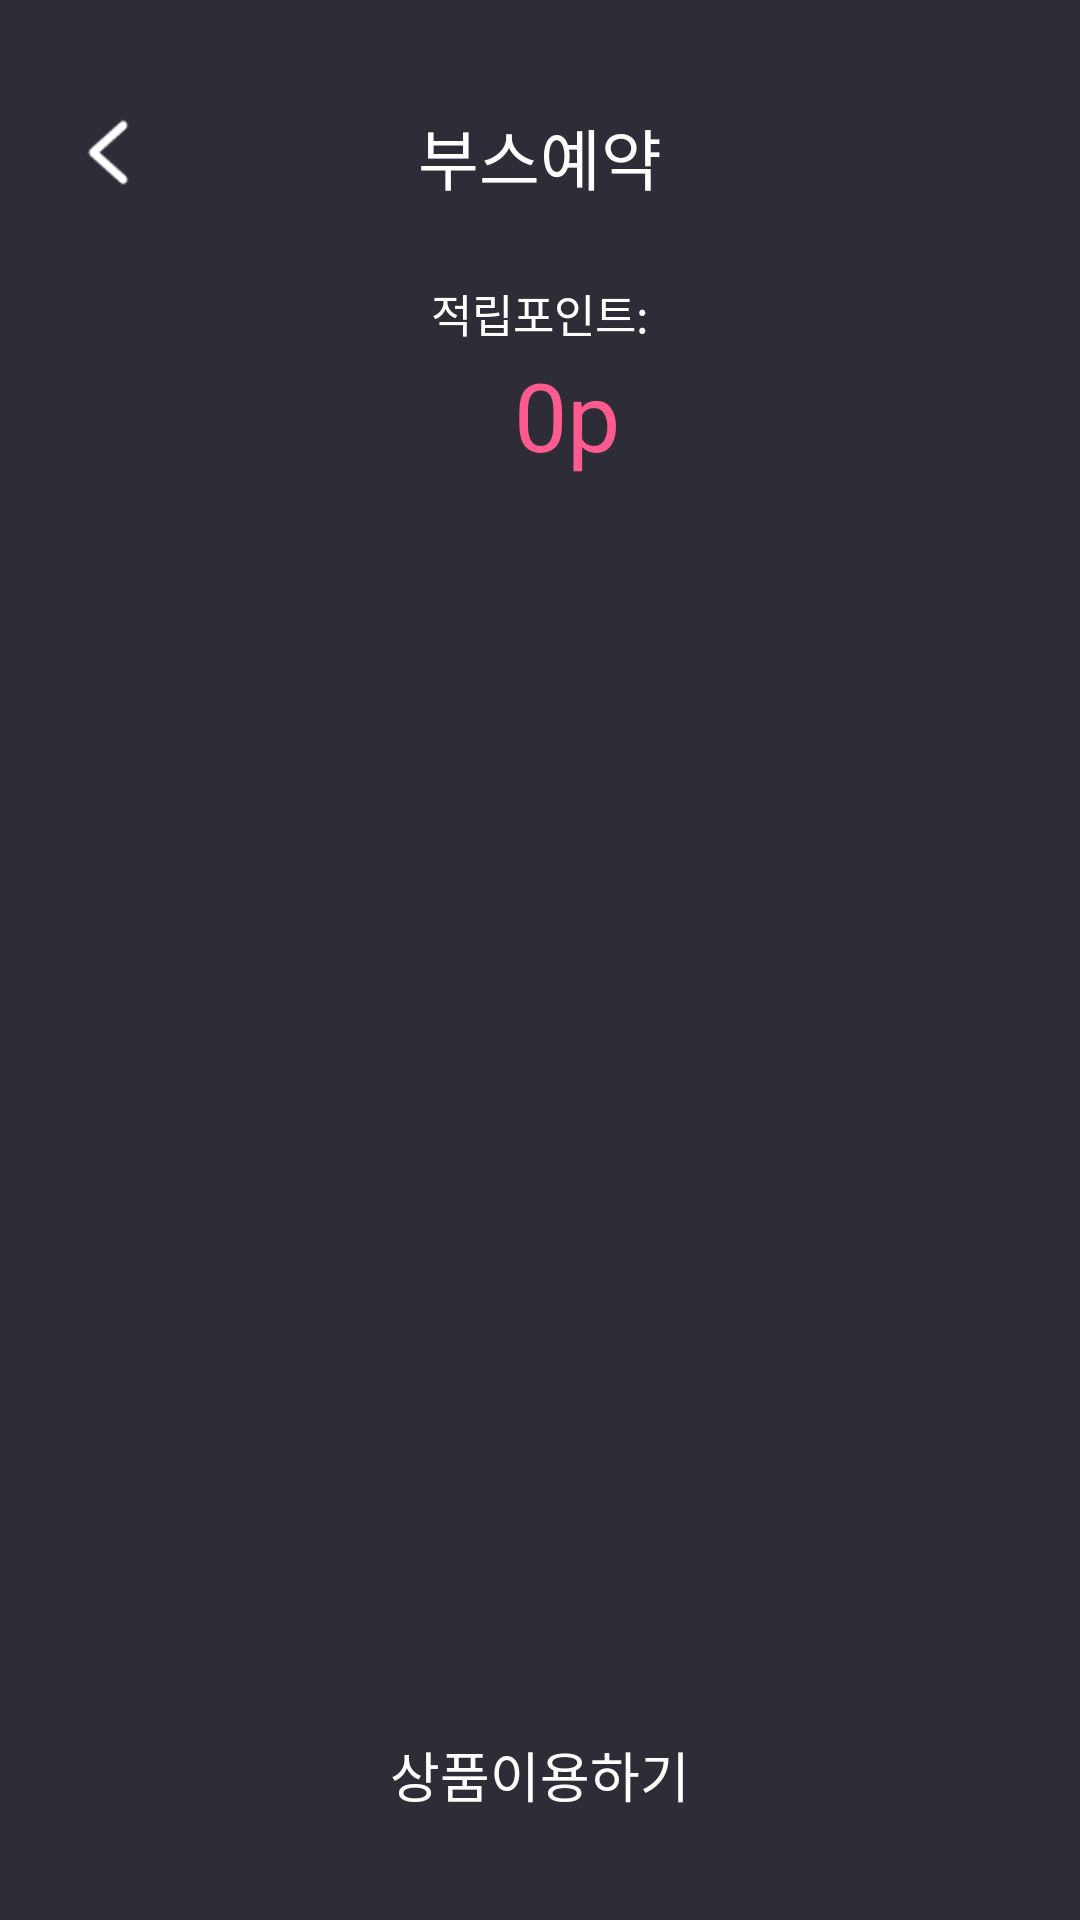

Named icons in this screenshot (1080 × 1920) and their centers, (x=x, y=y):
arrow left resize: (x=108, y=152)
